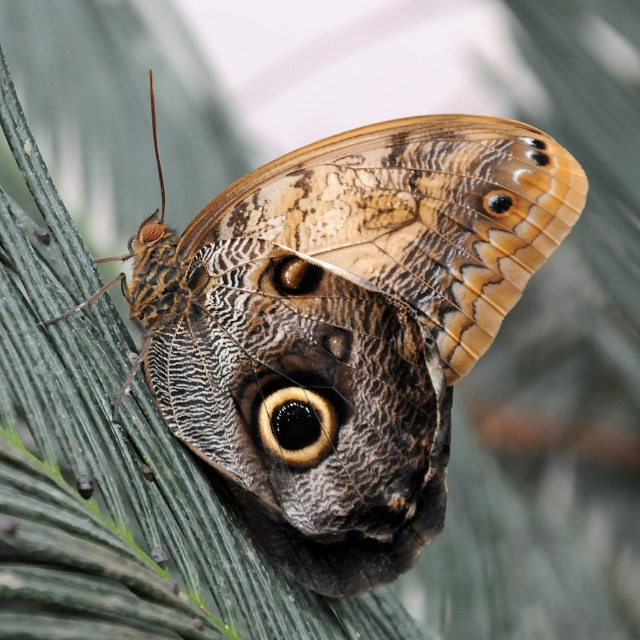Butterfly: (38, 65, 593, 598)
